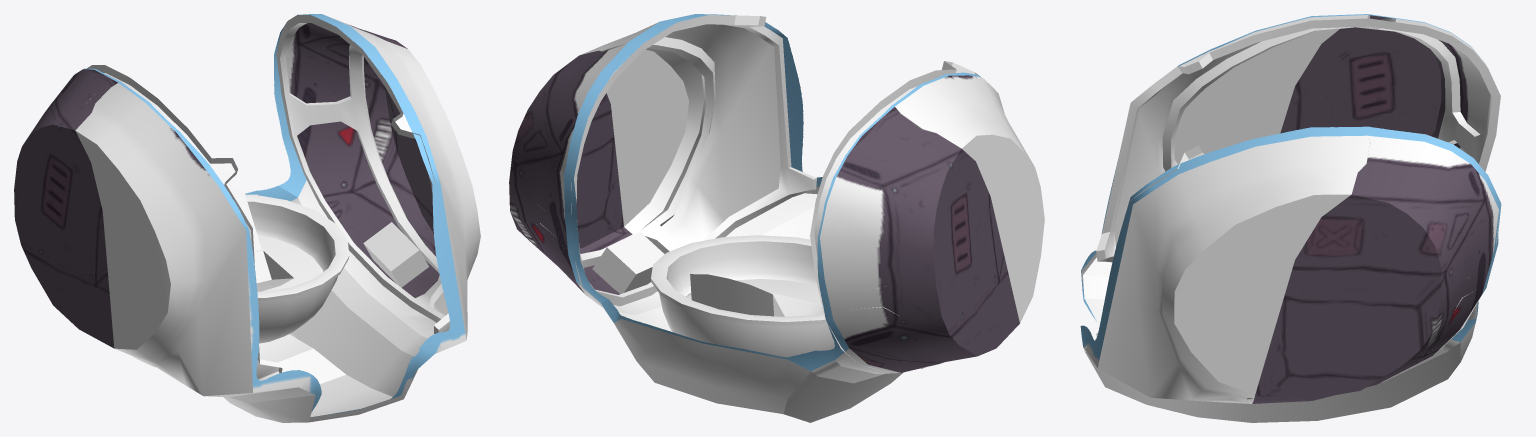
The model's file is Cockpit 4.fbx.
The picture shows the model from 3 angles, left to right: view 1: azimuth 30°, elevation 25°; view 2: azimuth 150°, elevation 25°; view 3: azimuth 270°, elevation 25°; orthographic projection. The views are drawn at different scales.
Parts seen in each view (by area): view 1: InnerShell, Frame, Bottom, Toolkit, Back; view 2: InnerShell, Bottom, Frame, Toolkit, Back; view 3: InnerShell, Frame.
Part boxes in pixels (<box>): InnerShell: <box>14,14,480,422</box>; Frame: <box>87,14,450,380</box>; Bottom: <box>245,194,349,343</box>; Toolkit: <box>363,222,428,287</box>; Back: <box>228,187,261,250</box>; InnerShell: <box>509,14,1044,422</box>; Bottom: <box>651,235,834,357</box>; Frame: <box>540,14,984,370</box>; Toolkit: <box>592,232,664,293</box>; Back: <box>690,274,784,316</box>; InnerShell: <box>1080,14,1501,422</box>; Frame: <box>1096,15,1500,403</box>.
Bounding box in the file's own units: 161 × 127 × 154.
